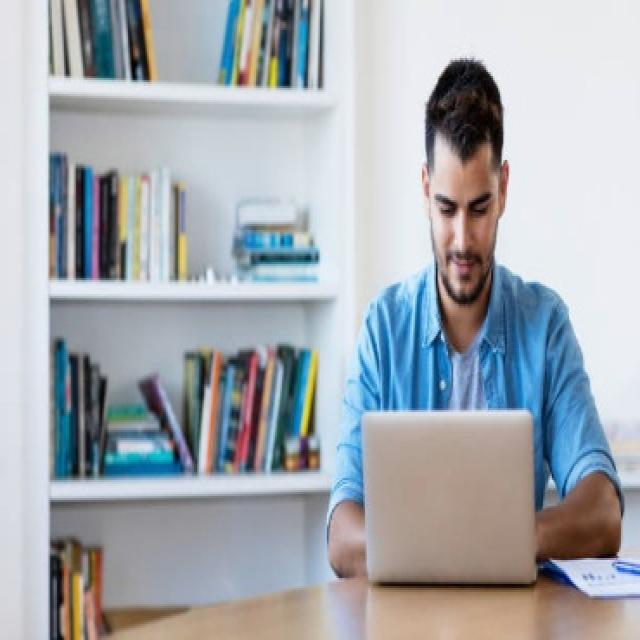adult: (326, 85, 625, 573)
